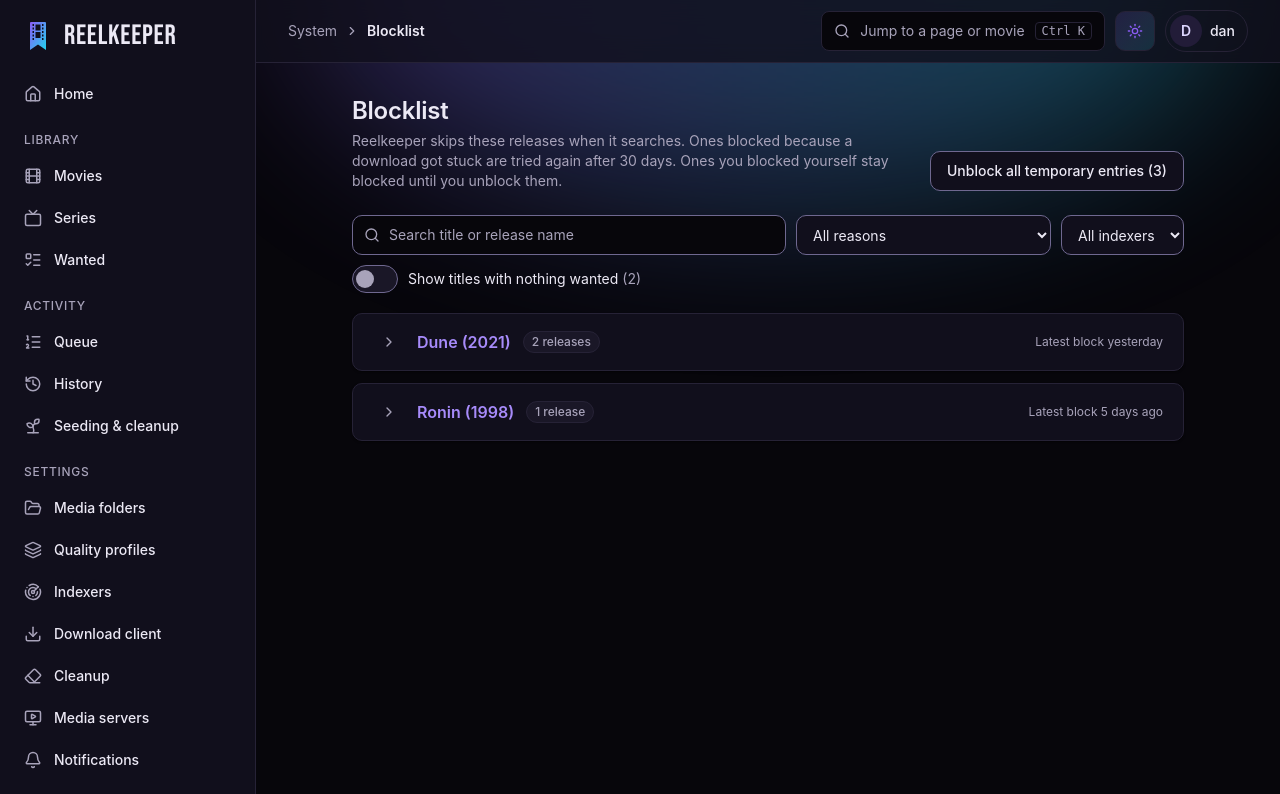
it: blocklist page › searches by title or release name and opens what it finds
The image size is (1280, 794).
Type "dead" into the search field named "Search the blocklist" at (569, 235), box left=352, top=215, right=786, bottom=255
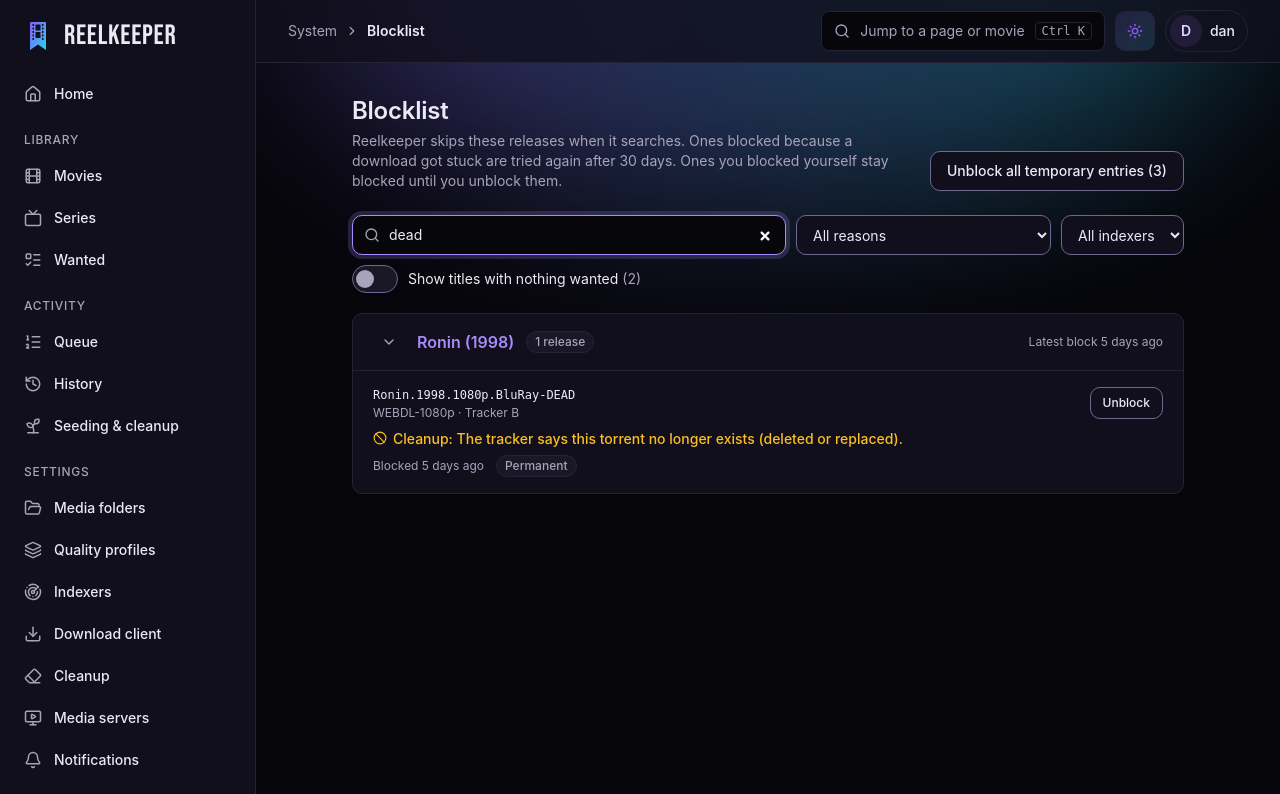
expect the text "Ronin.1998.1080p.BluRay-DEAD" is shown: met, box left=373, top=388, right=575, bottom=402
expect the link "Dune (2021)" is gone: met
Replace the text in the search field with "dune" at (569, 235), box left=352, top=215, right=786, bottom=255
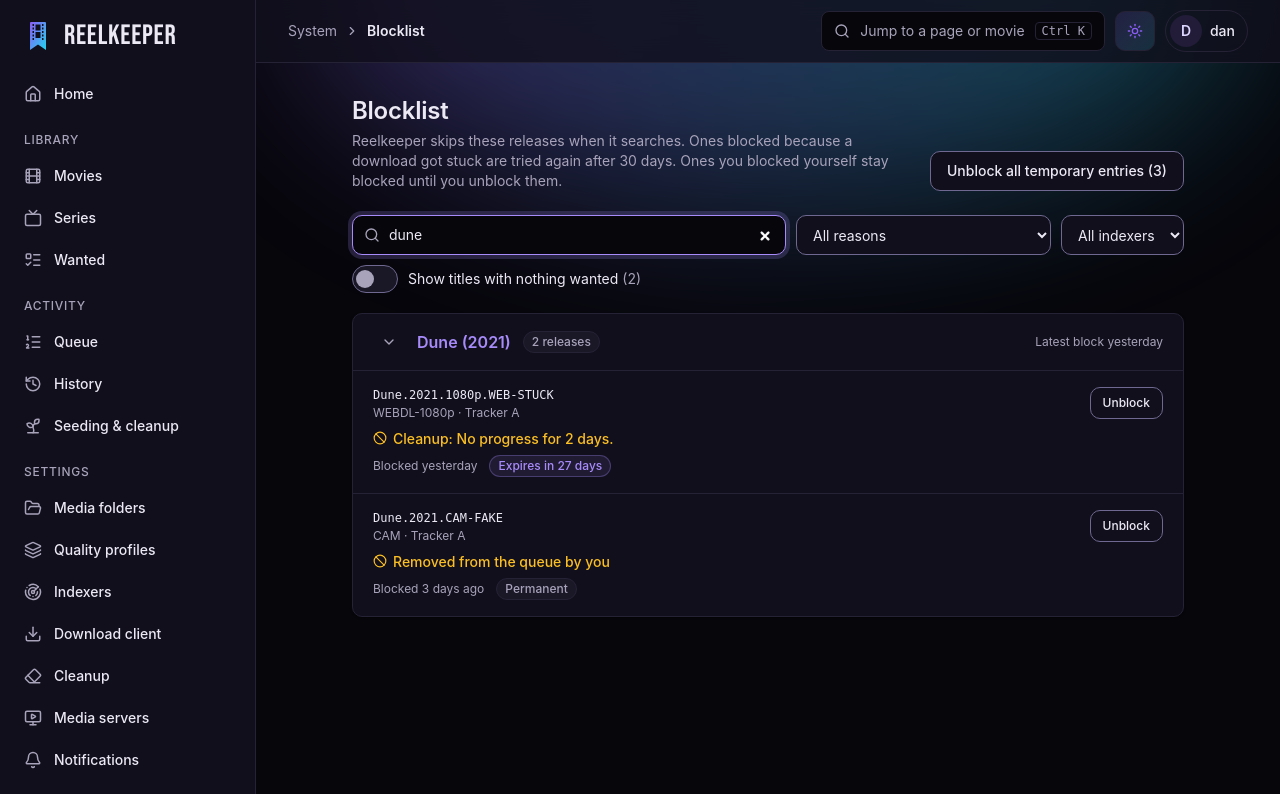
expect the text "Dune.2021.CAM-FAKE" is shown: met, box left=373, top=511, right=503, bottom=525
expect the link "Ronin (1998)" is gone: met
Replace the text in the search field with "nothing like this" at (569, 235), box left=352, top=215, right=786, bottom=255
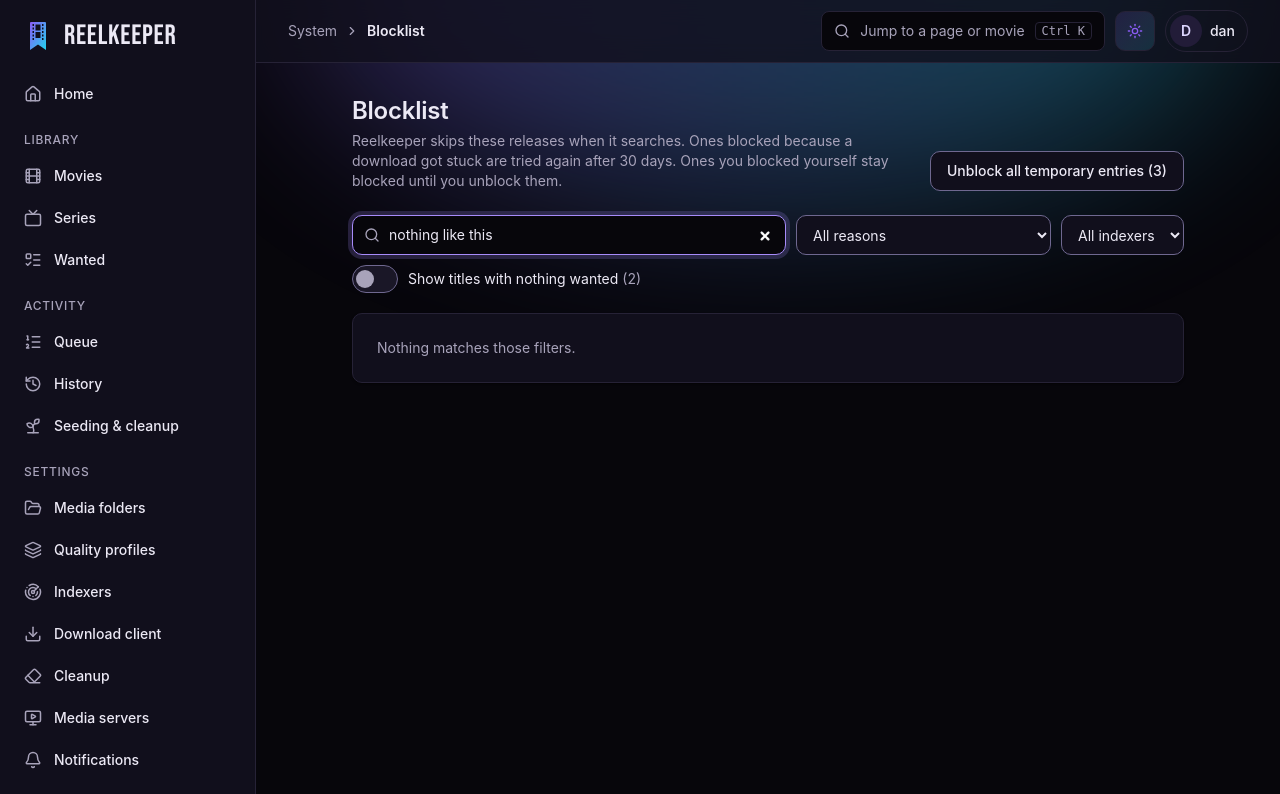
expect the text "Nothing matches those filters." is shown: met, box left=352, top=313, right=1184, bottom=383
